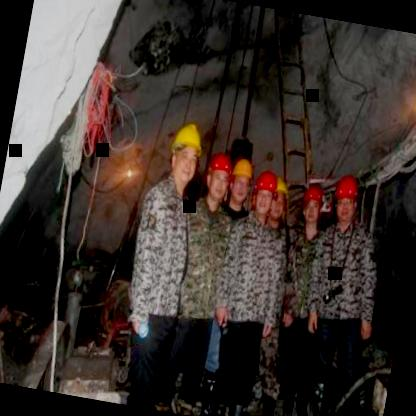helmet: (162, 116, 210, 192), (223, 148, 258, 208), (327, 173, 363, 227), (296, 180, 329, 230), (203, 152, 234, 204), (252, 167, 283, 217), (266, 176, 289, 225)
